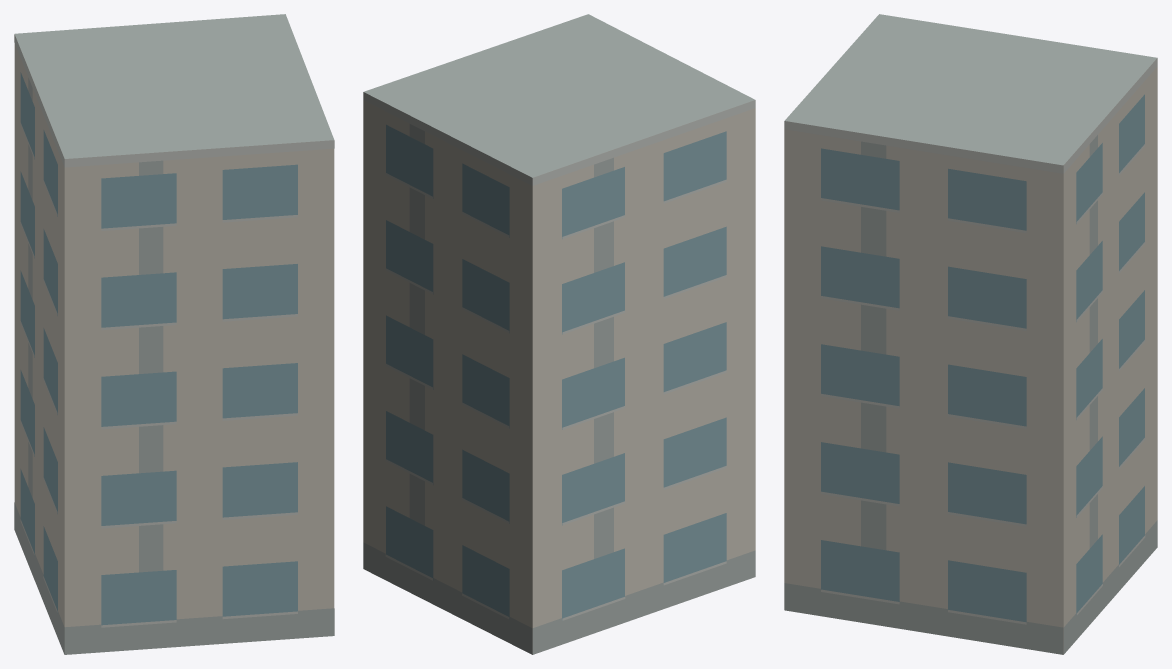
File: survey-upis-32529556.glb
3 renders of one model, left to right at view 1: azimuth 30°, elevation 25°; view 2: azimuth 150°, elevation 25°; view 3: azimuth 270°, elevation 25°, orthographic. The views are drawn at different scales.
Visible parts, largest first — view 1: survey-upis-32529556.tmp; view 2: survey-upis-32529556.tmp; view 3: survey-upis-32529556.tmp.
Part boxes in pixels (x1,y1,x2,y2): survey-upis-32529556.tmp: (14, 14, 334, 654); survey-upis-32529556.tmp: (363, 14, 755, 654); survey-upis-32529556.tmp: (784, 14, 1157, 654).
Size of the model in its own units: 9.43 by 14.2 by 9.82.
